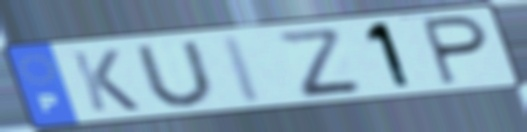1: (358, 19, 416, 92)
I: (218, 33, 268, 106)
K: (67, 47, 144, 114)
P: (418, 13, 492, 88)
U: (130, 38, 221, 109)
Z: (271, 26, 366, 100)
